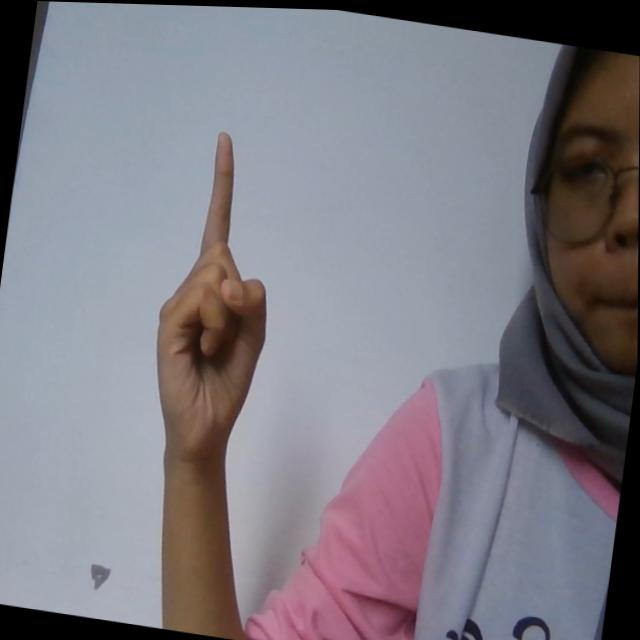D: (141, 122, 293, 457)
